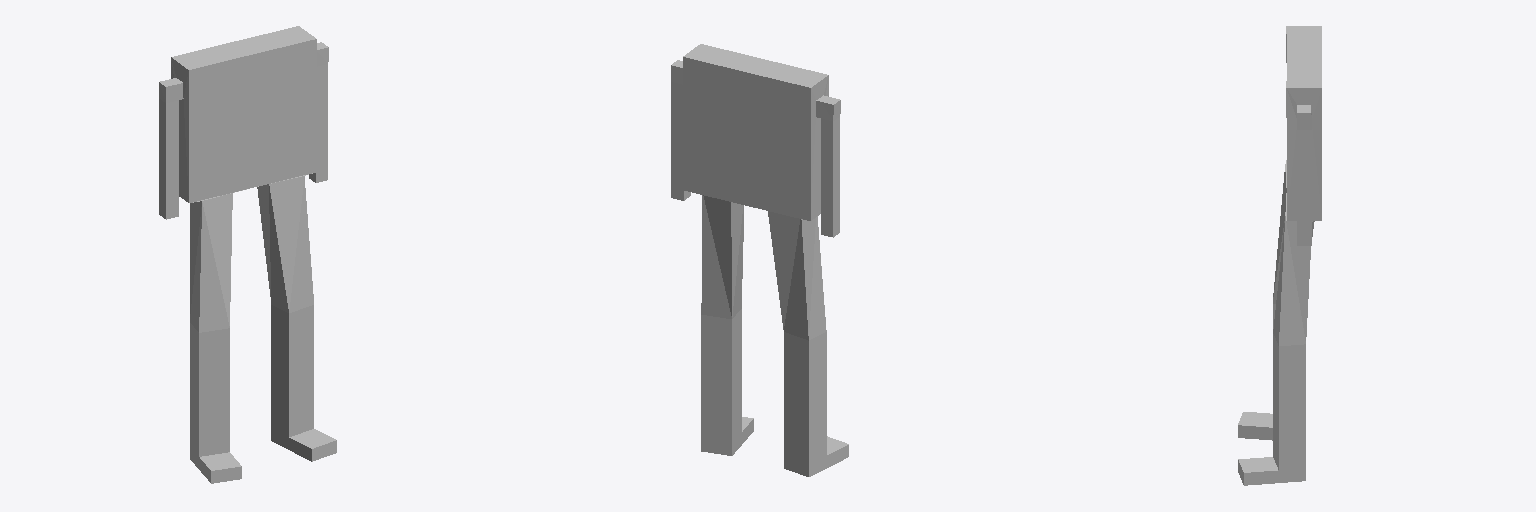
Rendered from body_simple.obj.
The picture shows the model from 3 angles: view 1: azimuth 30°, elevation 25°; view 2: azimuth 150°, elevation 25°; view 3: azimuth 270°, elevation 25°; orthographic projection.
Parts seen in each view (by area): view 1: Cube_Cube.001; view 2: Cube_Cube.001; view 3: Cube_Cube.001.
Part boxes in pixels (left/top/right/bottom): Cube_Cube.001: left=159, top=26, right=336, bottom=483; Cube_Cube.001: left=671, top=44, right=848, bottom=476; Cube_Cube.001: left=1238, top=26, right=1321, bottom=485.
Bounding box in the file's own units: 0.7252 × 1.69 × 0.3268.